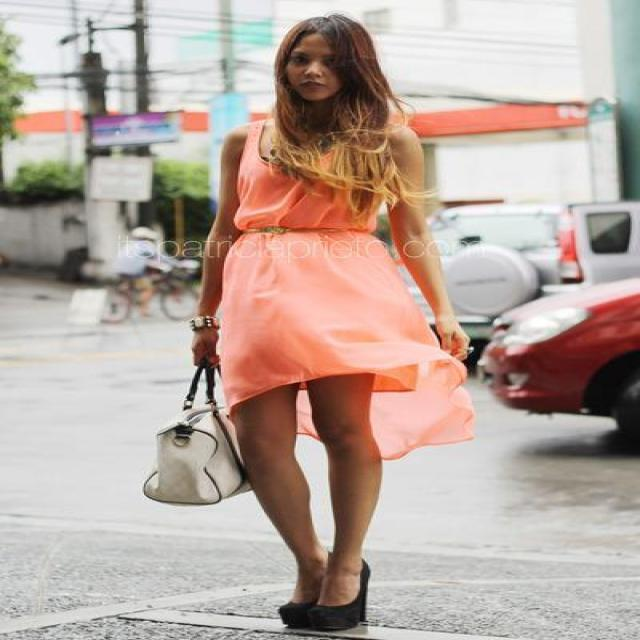bag: (115, 387, 269, 506)
dress: (213, 107, 470, 460)
shoe: (278, 561, 369, 636)
